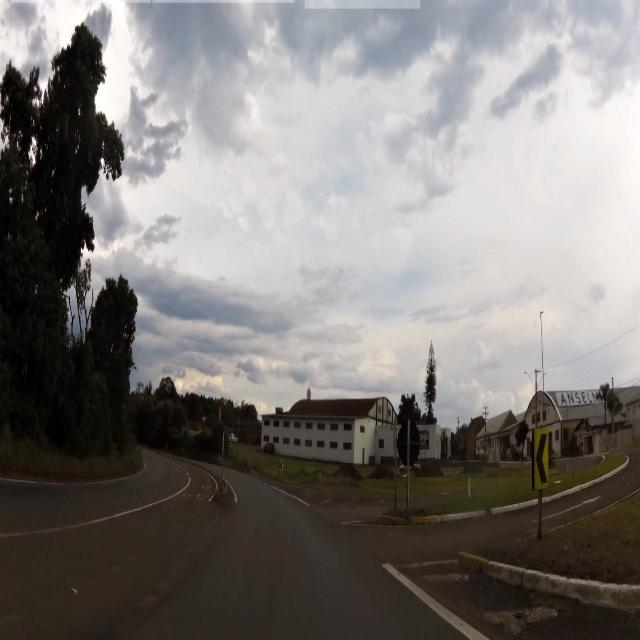Del: (531, 426, 550, 492)
